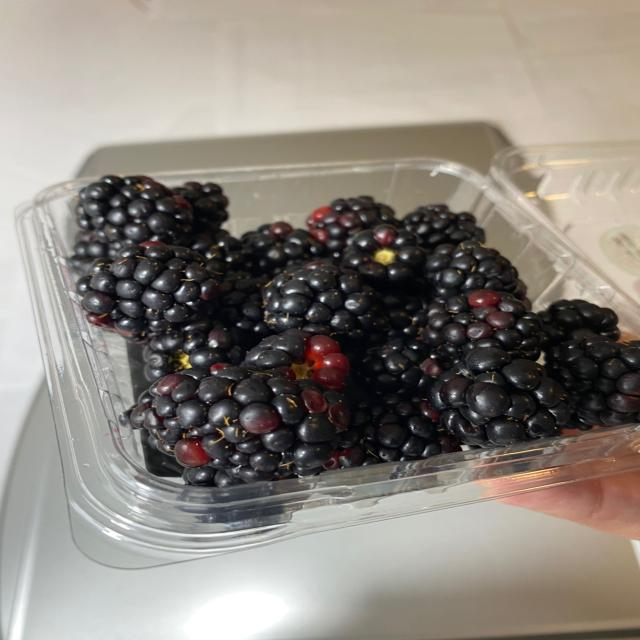blackberries: (47, 173, 638, 455)
